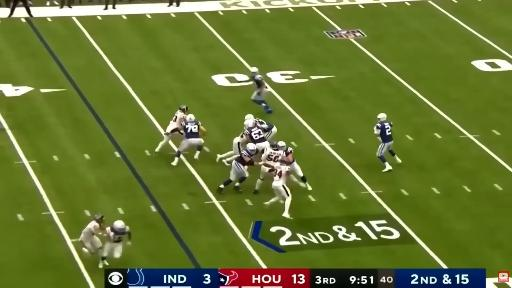Helmet: (113, 221, 125, 229), (94, 214, 104, 223), (277, 141, 286, 150), (244, 120, 254, 128), (247, 143, 257, 151), (270, 142, 278, 151), (179, 106, 188, 113), (186, 114, 195, 121), (245, 114, 254, 120), (281, 156, 287, 165), (378, 114, 386, 120), (251, 67, 258, 72)
Jersey: (166, 111, 186, 132), (375, 120, 393, 143), (244, 125, 266, 143), (235, 149, 258, 166), (262, 149, 284, 166), (107, 226, 129, 243), (182, 120, 201, 138), (274, 166, 290, 184), (82, 221, 100, 236), (255, 119, 274, 132), (252, 73, 266, 89), (284, 147, 295, 162)
Player: (218, 143, 260, 192), (172, 114, 205, 165), (254, 142, 285, 194), (155, 106, 188, 154), (99, 221, 131, 268), (375, 114, 401, 171), (265, 164, 291, 218), (284, 147, 311, 190), (251, 67, 272, 113), (216, 134, 246, 165), (80, 215, 104, 253), (246, 115, 277, 140), (244, 120, 269, 151)
